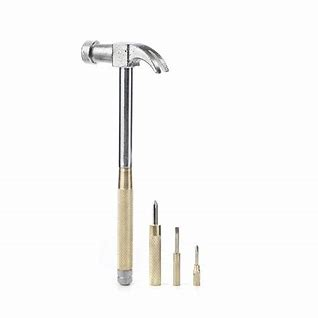martillu: (75, 34, 176, 295)
